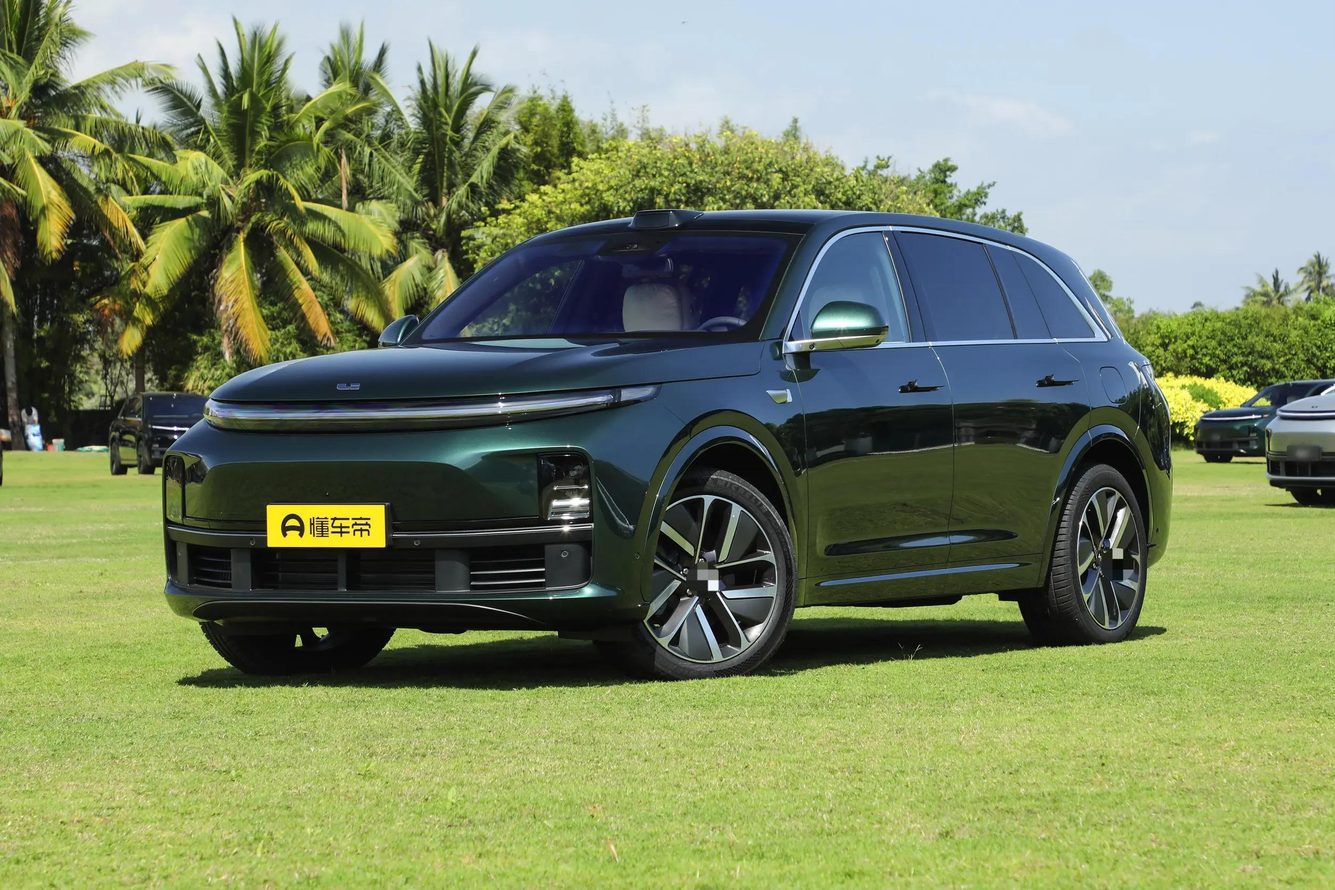Li Auto: (337, 383, 360, 390)
